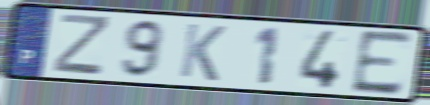1: (253, 27, 281, 88)
4: (297, 28, 343, 91)
9: (118, 17, 167, 80)
E: (349, 28, 416, 97)
K: (176, 21, 228, 84)
Z: (50, 12, 114, 78)
